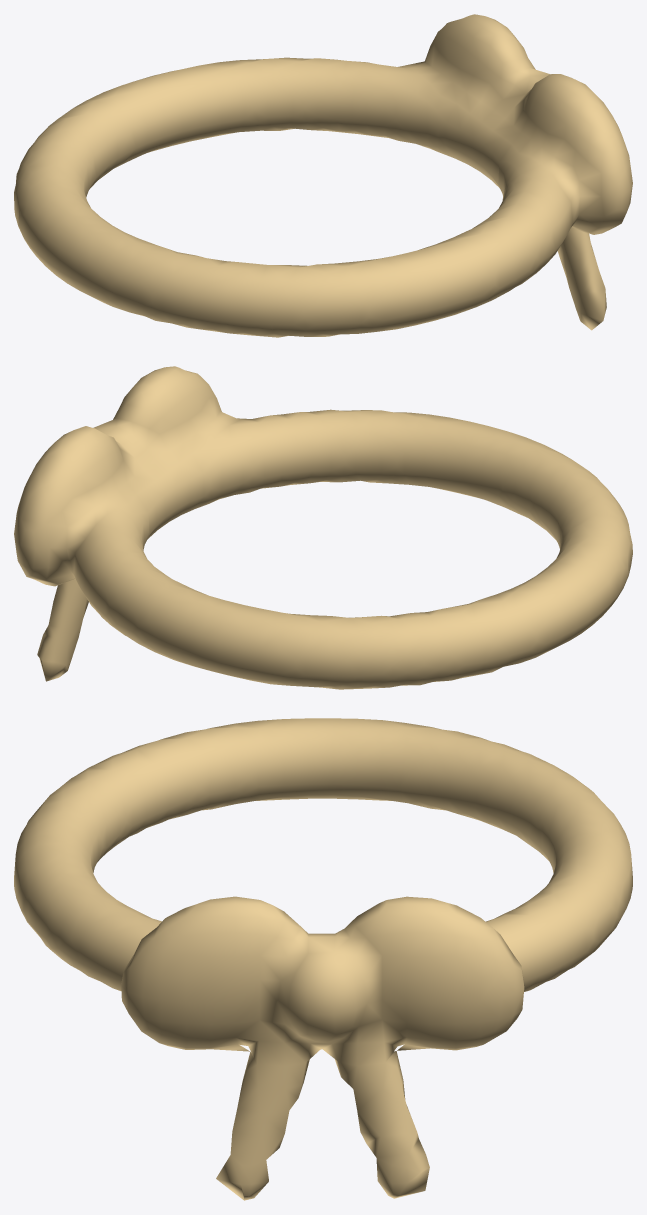
The model's file is acc_ribbon.glb.
3 views of the same model, one above another, from view 1: azimuth 30°, elevation 25°; view 2: azimuth 150°, elevation 25°; view 3: azimuth 270°, elevation 25° (orthographic). The views are drawn at different scales.
Visible parts, largest first — view 1: body; view 2: body; view 3: body.
Part boxes in pixels (x1,y1,x2,y2): body: (14,14,632,337); body: (14,366,632,689); body: (14,718,632,1200).
Size of the model in its own units: 0.7518 by 0.3492 by 0.6866.
